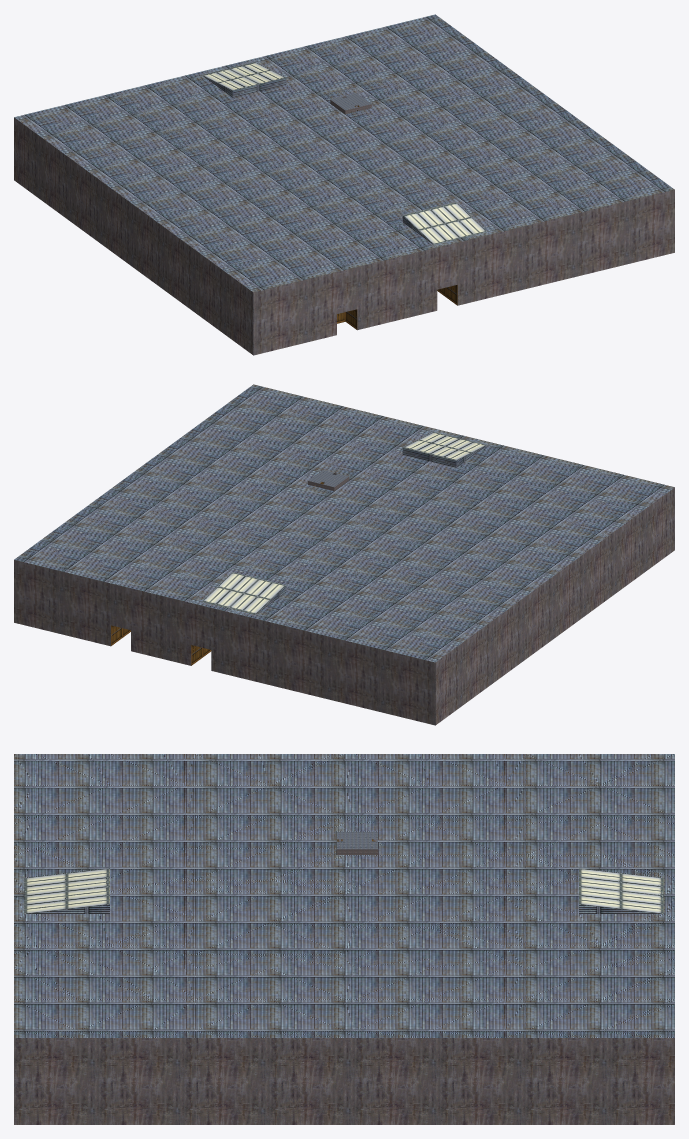
Rendered from cs_deagle5.glb.
3 views of the same model, one above another, from view 1: azimuth 30°, elevation 25°; view 2: azimuth 150°, elevation 25°; view 3: azimuth 270°, elevation 25° (orthographic). The views are drawn at different scales.
Parts seen in each view (by area): view 1: cs_deagle5.bsp, cs_deagle5.bsp_clean; view 2: cs_deagle5.bsp, cs_deagle5.bsp_clean; view 3: cs_deagle5.bsp, cs_deagle5.bsp_clean.
Boxes of the visible parts, x1,y1,x2,y2 form: cs_deagle5.bsp: (14, 14, 674, 355); cs_deagle5.bsp_clean: (330, 93, 371, 114); cs_deagle5.bsp: (14, 384, 674, 725); cs_deagle5.bsp_clean: (308, 470, 349, 491); cs_deagle5.bsp: (14, 754, 674, 1124); cs_deagle5.bsp_clean: (336, 831, 377, 854).
Size of the model in its own units: 2016 by 530 by 1984.
Materials: 13 (13 with a texture image).
